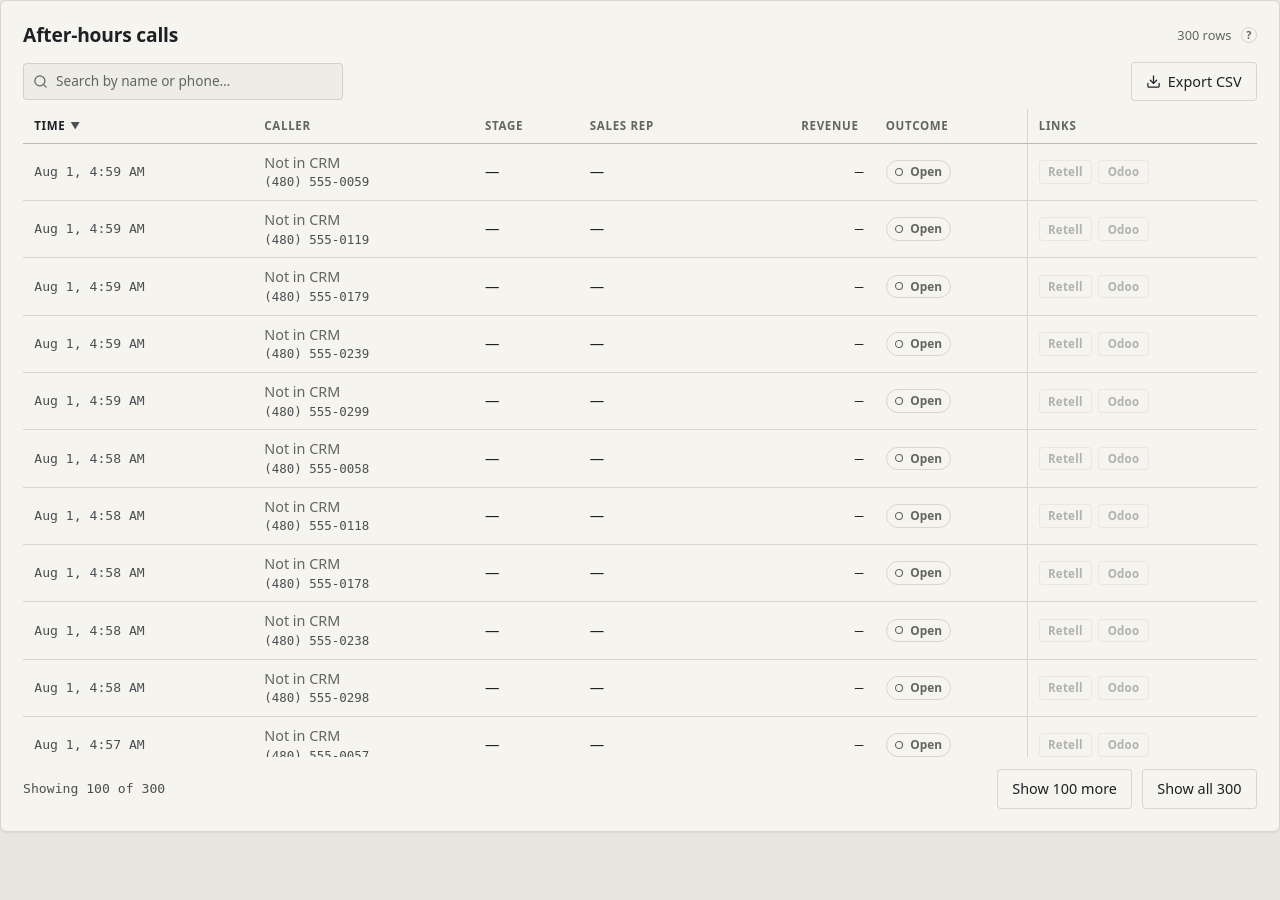
Test case: CallsTable paging › starts again from the first page when the search changes
Click the button "Show all 300" at [1199, 789], box [1142,769,1257,809]
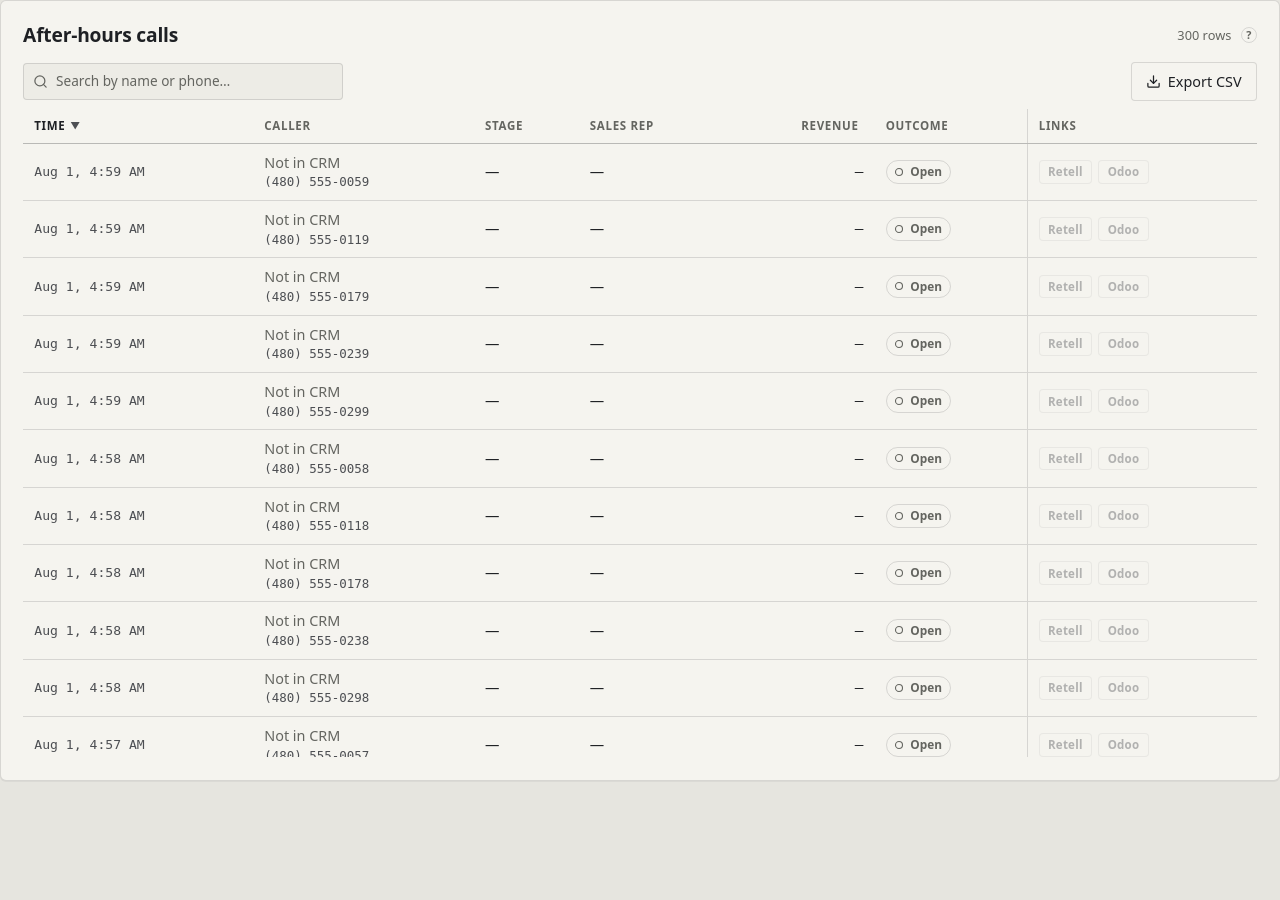
Type "480555" into the search field at [183, 82], box [23,63,343,100]
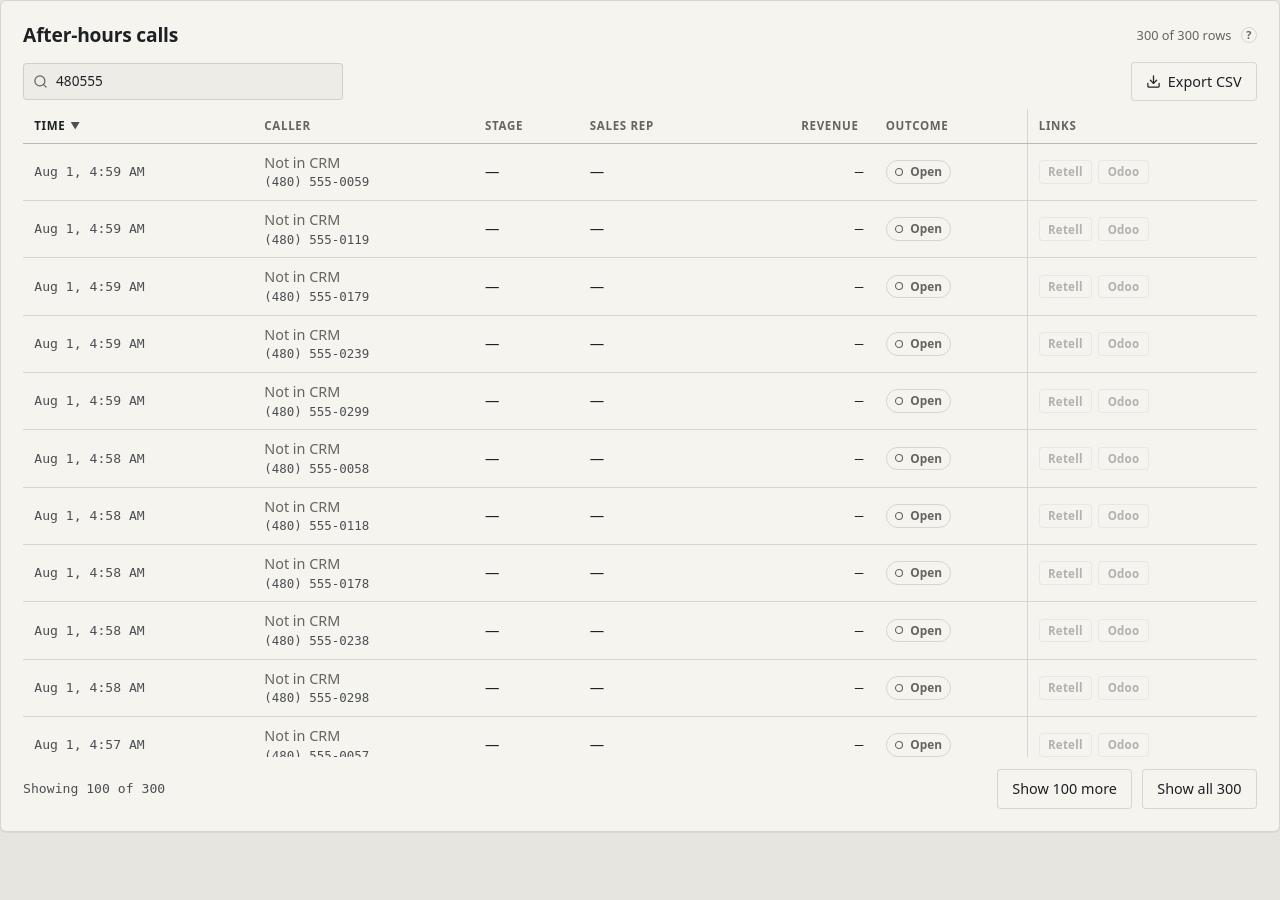
Replace the text in the search field with "Acme" at [183, 82], box [23,63,343,100]
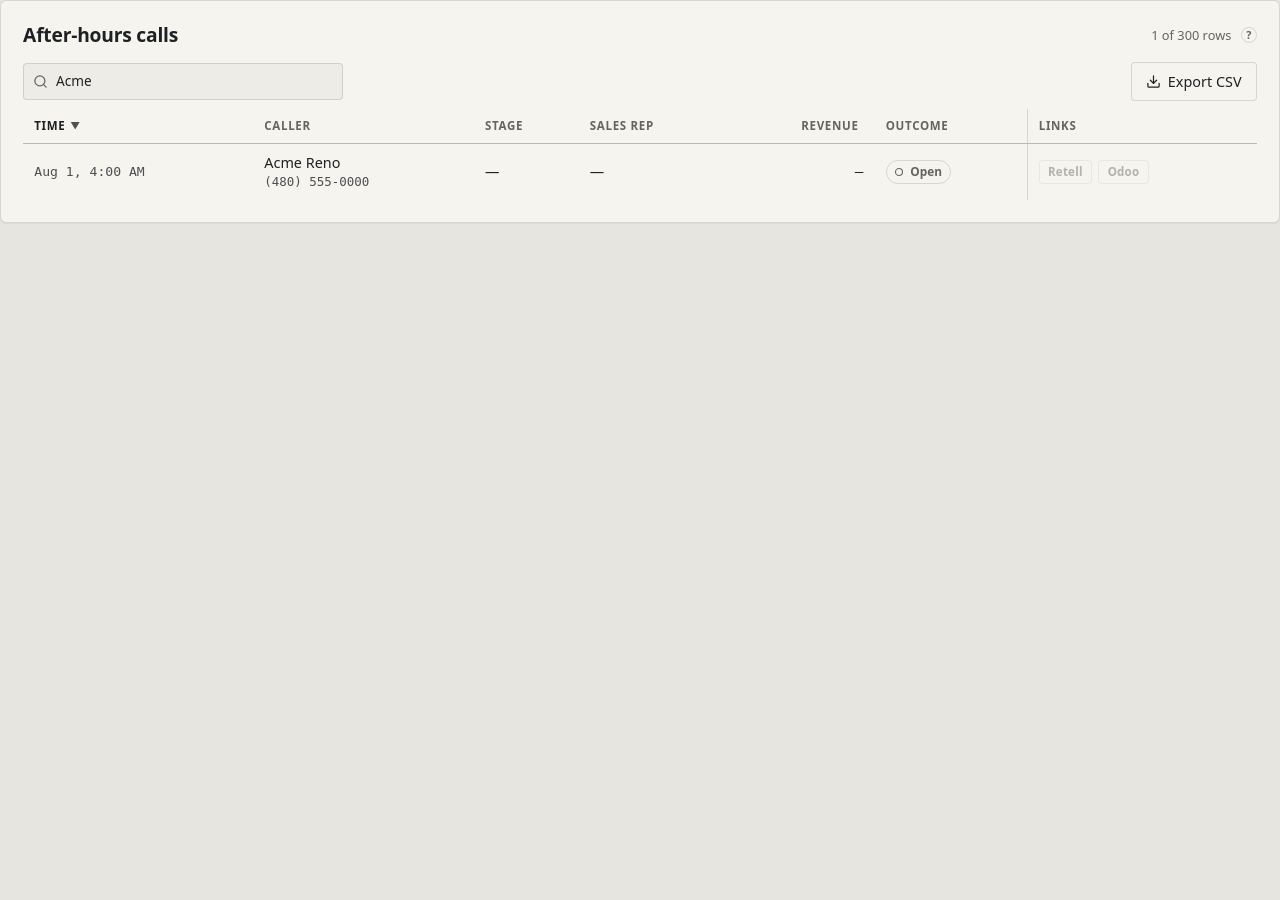
Check: the text "Showing " is gone
